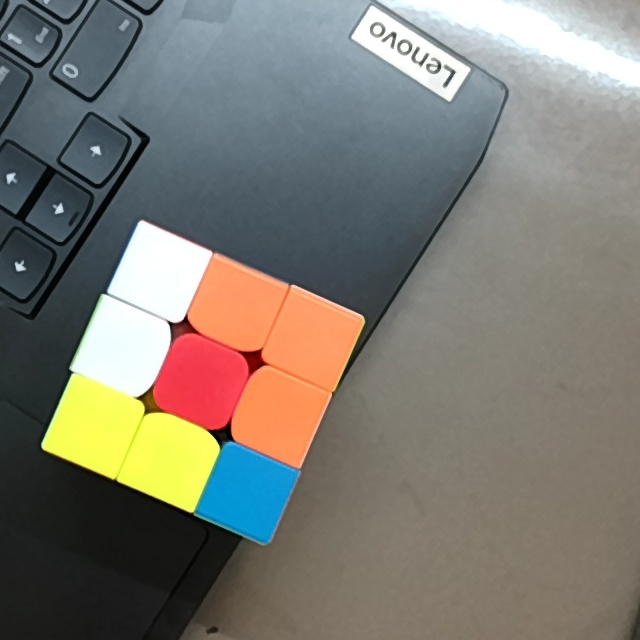tile: (248, 386, 307, 447), (141, 430, 200, 486), (171, 354, 231, 409), (98, 318, 153, 377), (220, 463, 276, 520), (284, 312, 342, 367), (207, 276, 263, 332), (67, 397, 121, 453), (131, 247, 188, 300)
